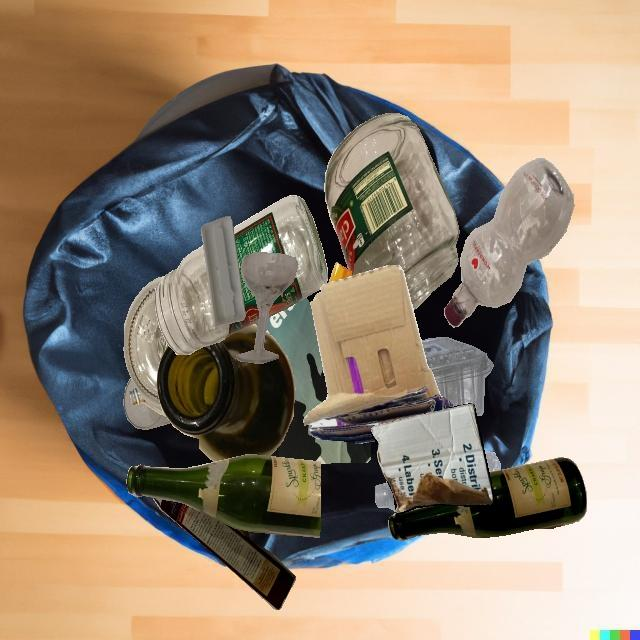cardboard: (303, 265, 453, 444), (152, 497, 295, 610), (371, 403, 494, 514)
glass: (156, 195, 328, 355), (325, 113, 460, 310), (157, 324, 295, 462), (126, 454, 321, 538), (388, 458, 587, 540), (236, 252, 298, 364), (123, 276, 169, 411), (123, 378, 171, 430)
paper: (266, 297, 371, 463)
plastic: (444, 158, 574, 327), (421, 337, 493, 416), (201, 216, 245, 327), (129, 387, 167, 417), (375, 481, 396, 512), (328, 262, 352, 283), (484, 451, 501, 472)
